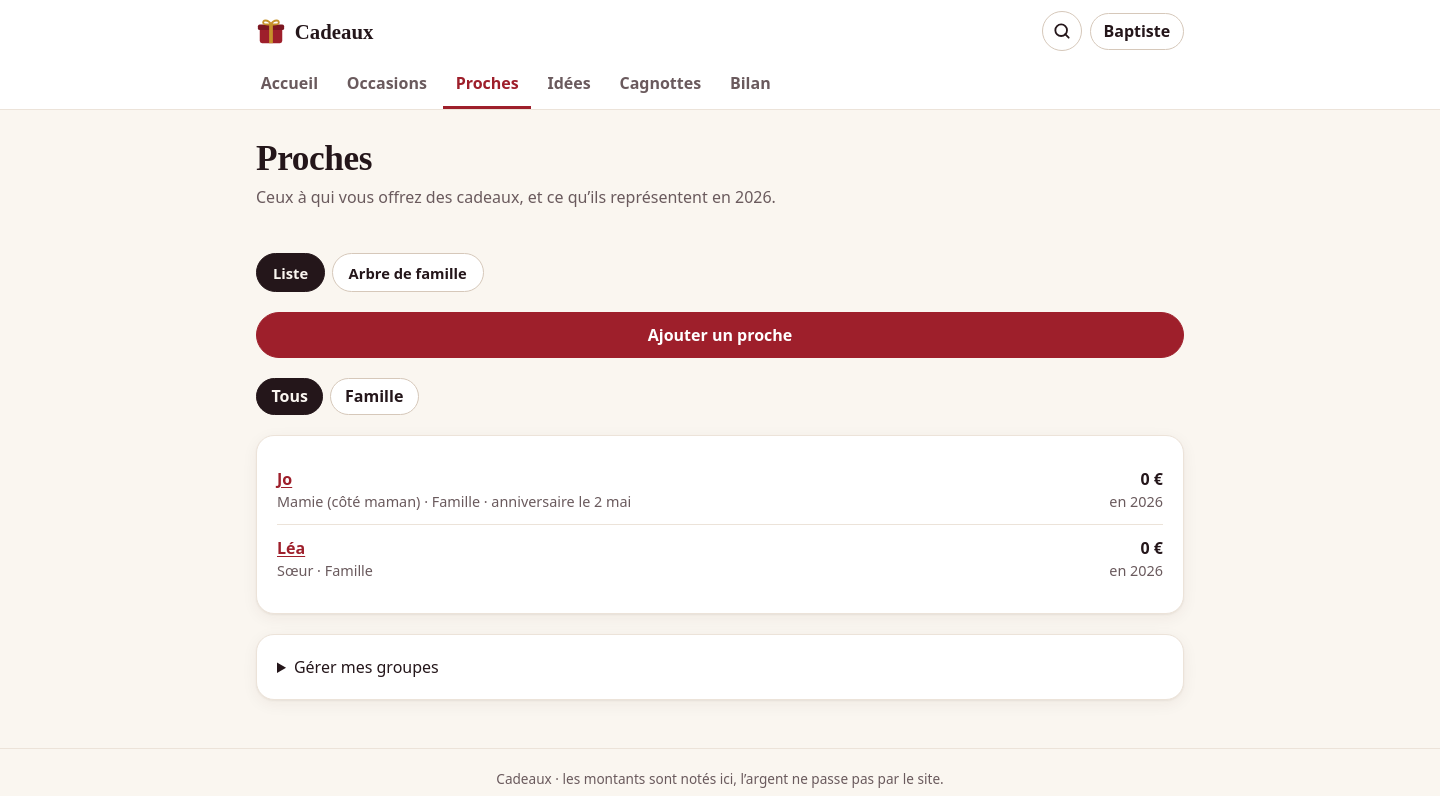
arbre de famille › place la famille par génération, complète une place vide, et propose les occasions au clic
The width and height of the screenshot is (1440, 796).
Click the button "Arbre de famille" at (408, 273), box [332,253,484,292]
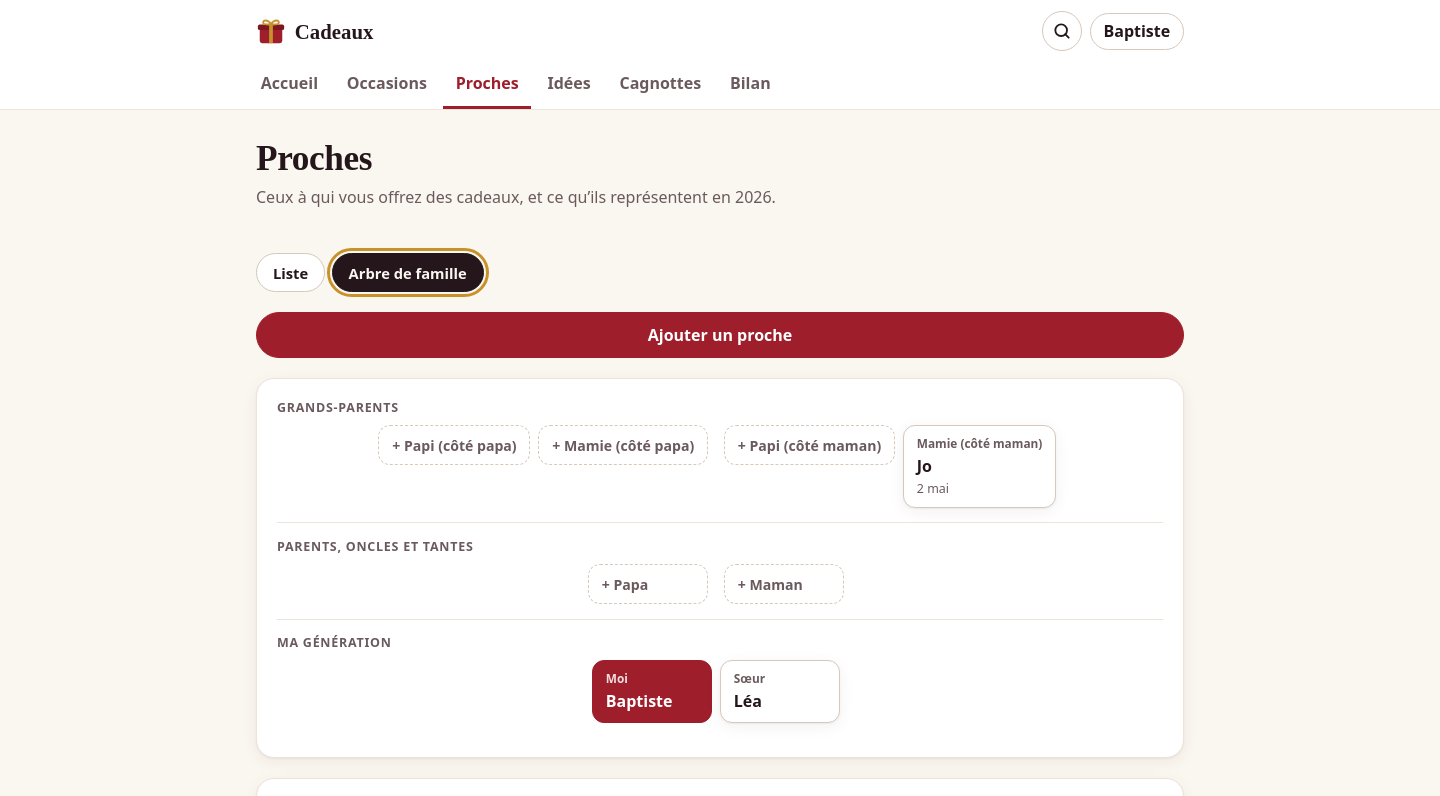
Result: the button "Mamie (côté maman) Jo 2 mai" is shown at [903,425,1056,508]
Result: the button "+ Papi (côté papa)" is shown at [378,425,530,466]
# Place vide : formulaire avec le lien déjà choisi.
Click the button "+ Papa" at (648, 584), box [588,564,708,604]
(page scrolled)
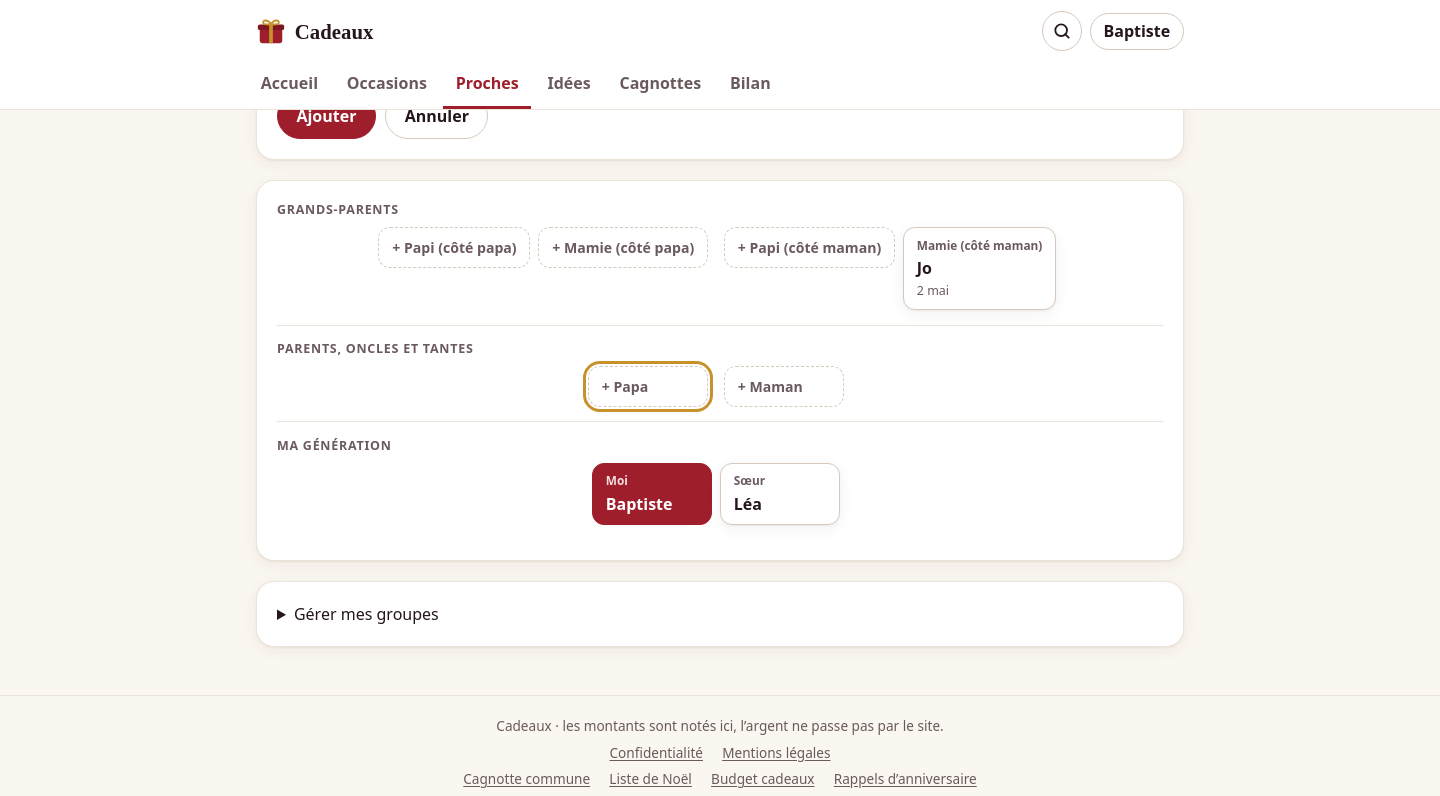
# Un clic sur Léa : Noël crée l'occasion et ouvre le cadeau pour elle.
Click the button "Sœur Léa" at (780, 494), box [720,462,840,526]
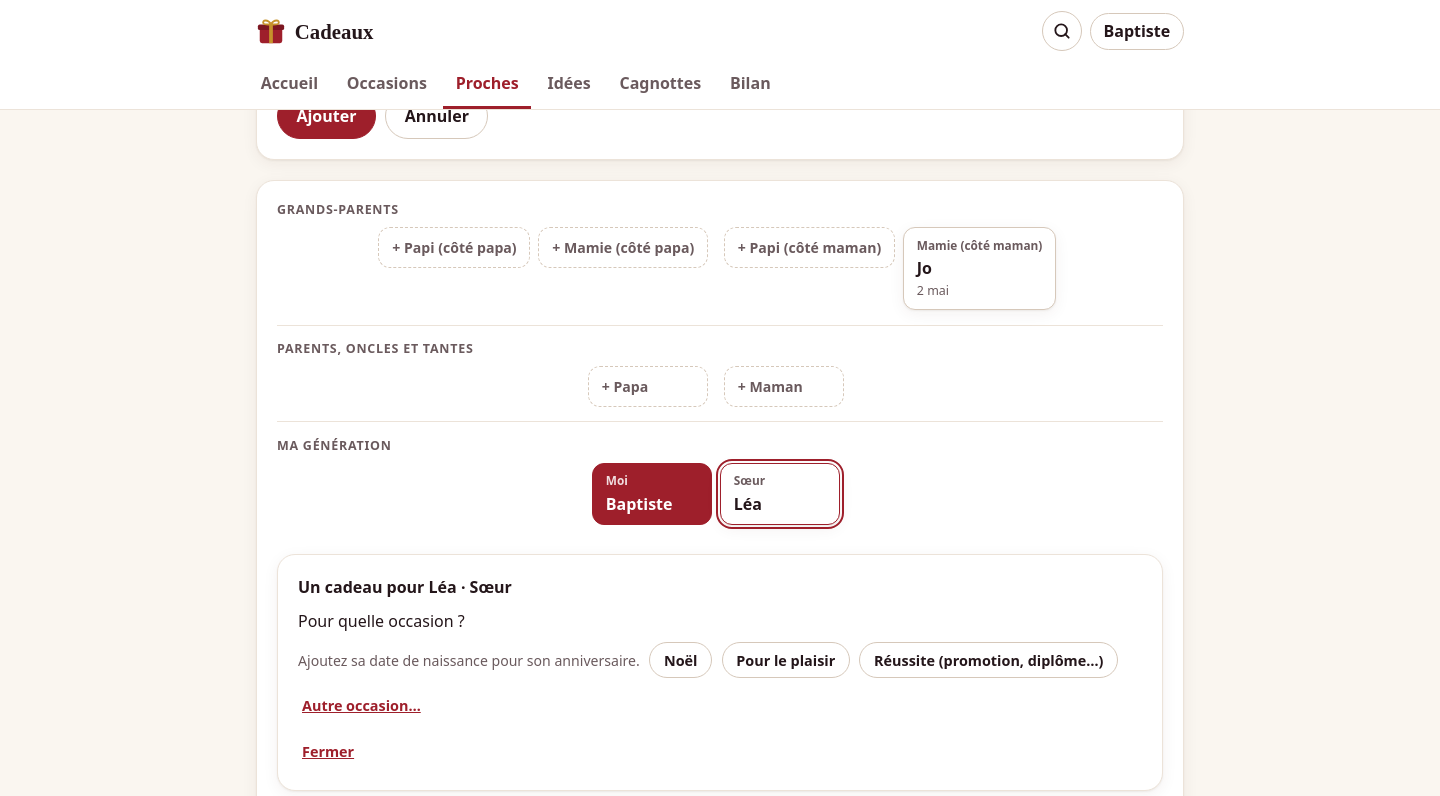
Result: the text "Ajoutez sa date de naissance pour son anniversaire." is shown at [298,650,640,671]
Click the button "Noël" at (681, 660), box [649,642,712,678]
(page scrolled)
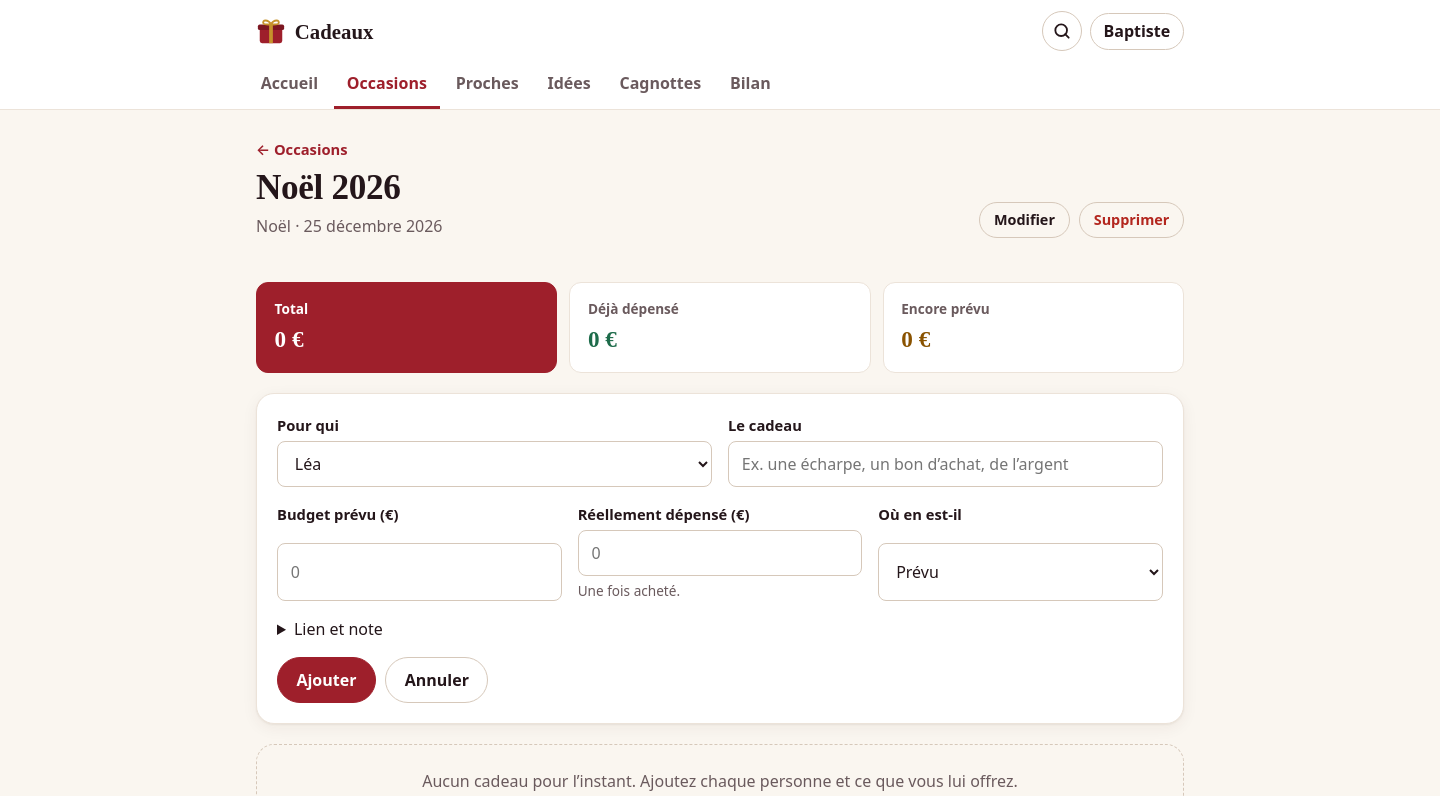
Result: the dropdown labelled "Pour qui" shows "Léa" at [277,441,712,487]
